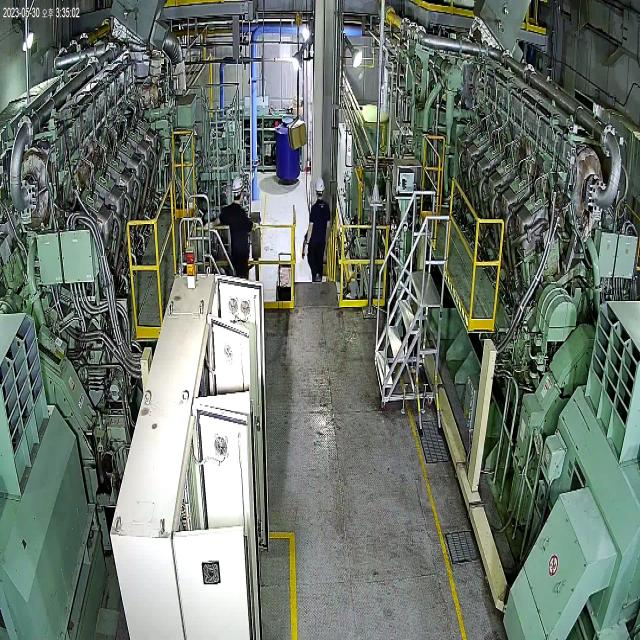Water Tank: (272, 108, 302, 188)
worker: (205, 170, 262, 277), (305, 169, 334, 283)
